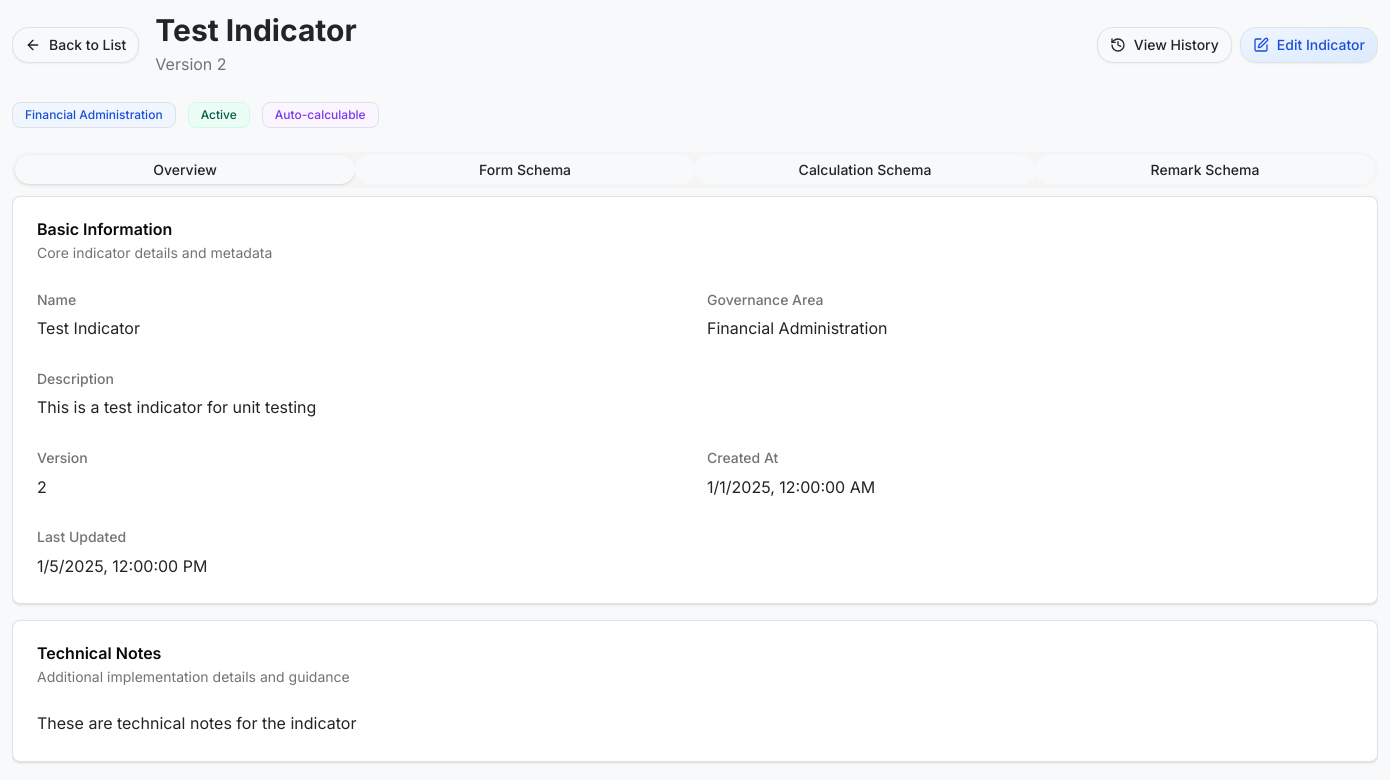
Test: IndicatorDetail › displays calculation schema JSON viewer
Click on Calculation Schema tab
Click the tab "Calculation Schema" at (865, 170), box [695,155,1035,184]
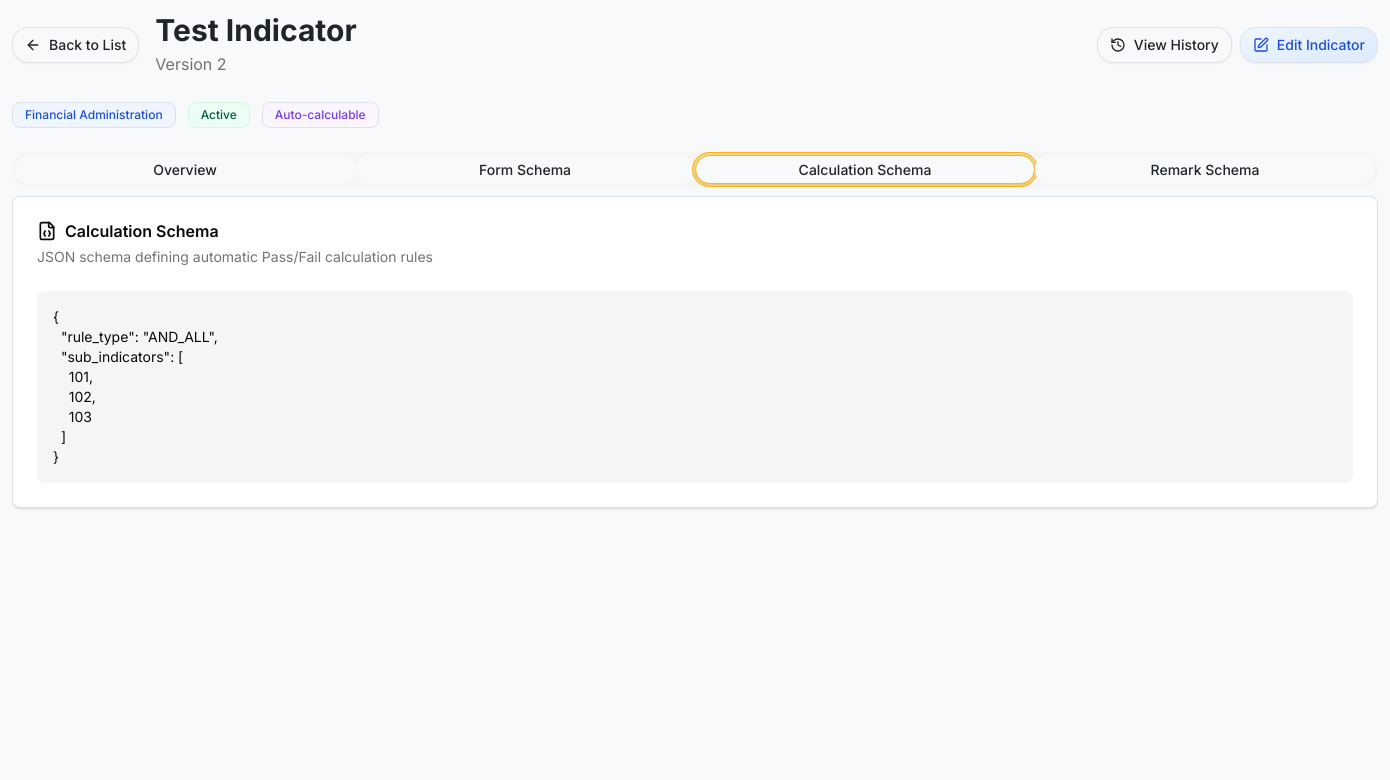
Result: the text "sub_indicators" is shown at [53,308,218,465]
